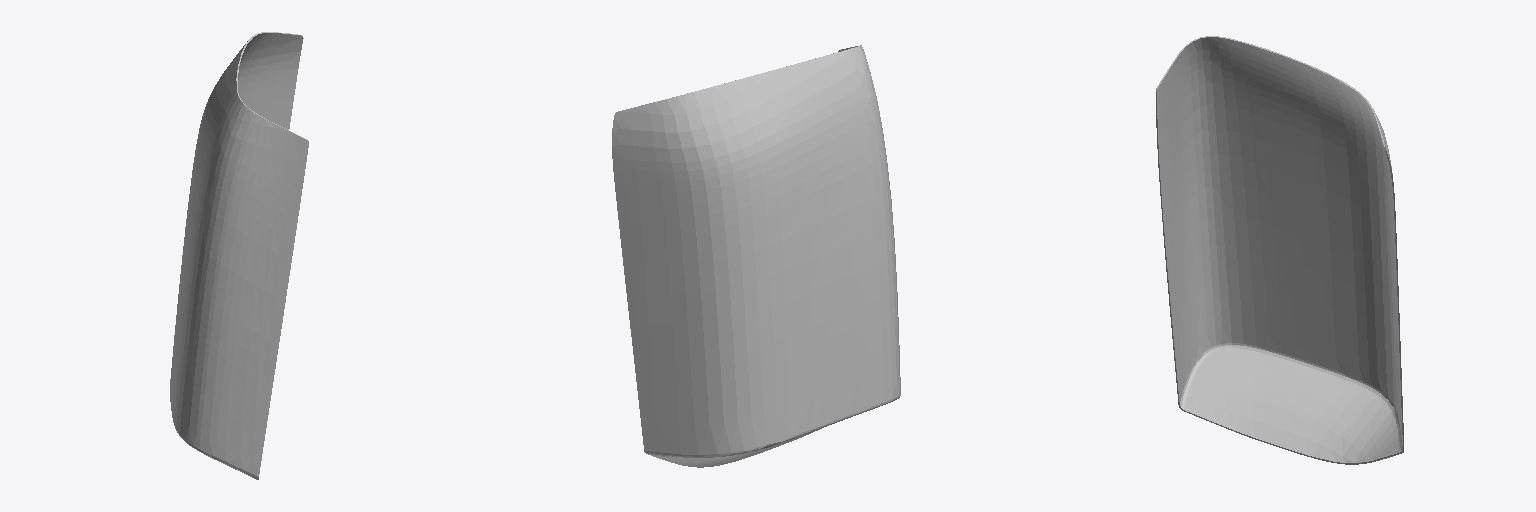
The model's file is Right_cover_optimized.obj.
The picture shows the model from 3 angles: view 1: azimuth 30°, elevation 25°; view 2: azimuth 150°, elevation 25°; view 3: azimuth 270°, elevation 25°; orthographic projection.
Parts seen in each view (by area): view 1: 5 side cover R; view 2: 5 side cover R; view 3: 5 side cover R.
Part boxes in pixels (left/top/right/bottom): 5 side cover R: left=170, top=32, right=308, bottom=479; 5 side cover R: left=612, top=45, right=900, bottom=467; 5 side cover R: left=1156, top=36, right=1403, bottom=464.
Size of the model in its own units: 499 by 928 by 534.